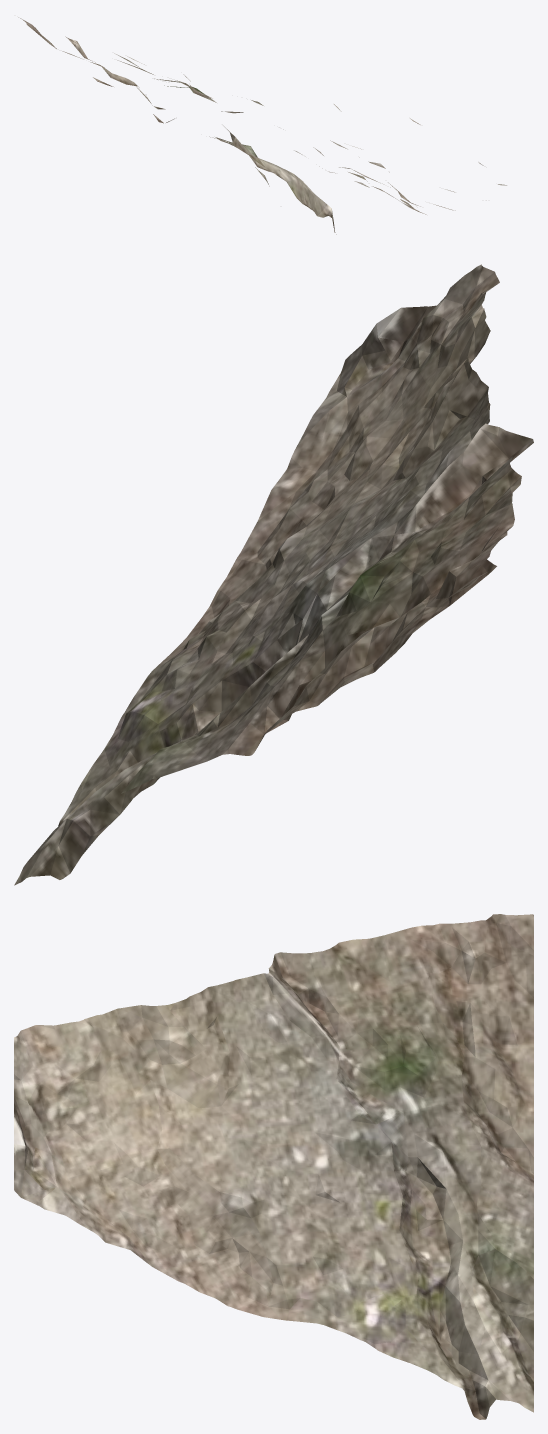
3 views of the same model, one above another, from view 1: azimuth 30°, elevation 25°; view 2: azimuth 150°, elevation 25°; view 3: azimuth 270°, elevation 25° (orthographic). The views are drawn at different scales.
Size of the model in its own units: 2.35 by 2.07 by 2.95.
Materials: 2 (2 with a texture image).
